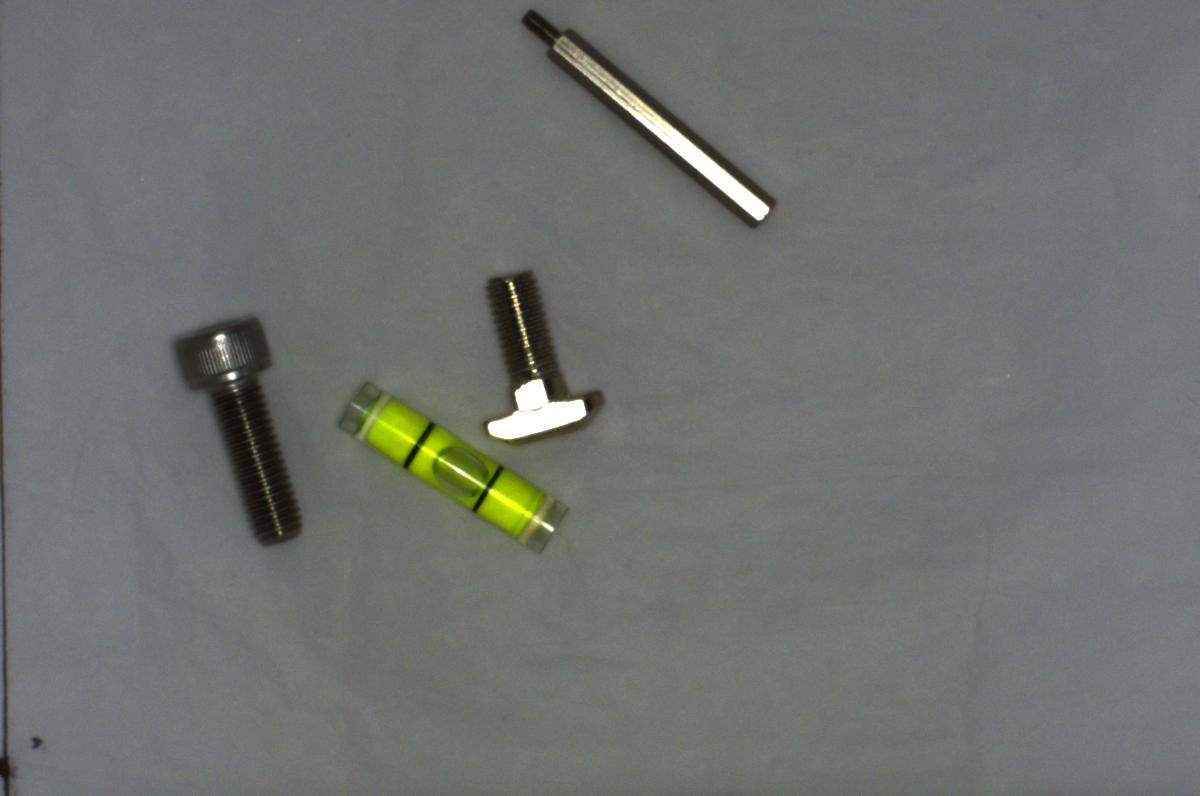Hexagon screw: (165, 310, 308, 549)
Hexagonal steel column: (513, 10, 775, 227)
Horizontal bubble: (331, 375, 565, 556)
T-shaped screw: (466, 263, 607, 448)
